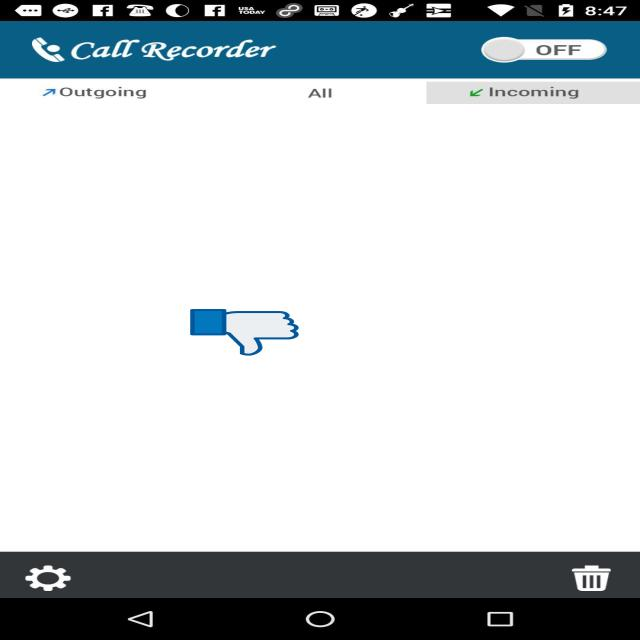obstruction: (190, 308, 299, 357)
